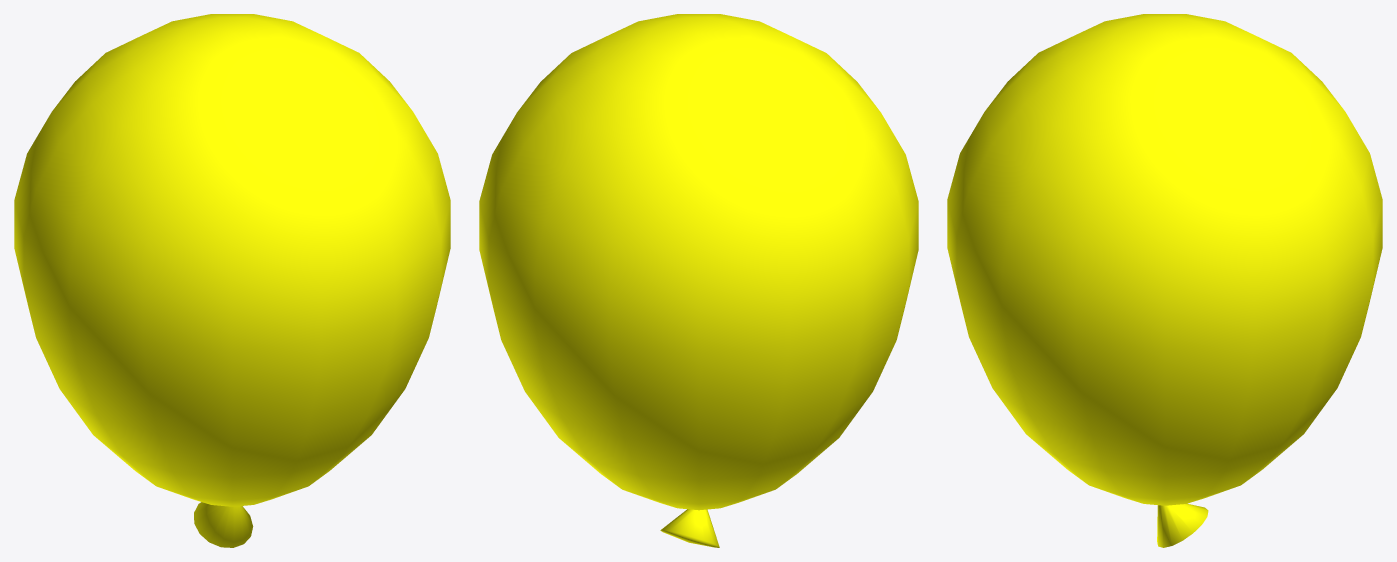
File: balloon_animation_test.dae
3 views of the same model, side by side, from view 1: azimuth 30°, elevation 25°; view 2: azimuth 150°, elevation 25°; view 3: azimuth 270°, elevation 25° (orthographic).
Visible parts, largest first — view 1: balloons_set_balloon_pSphere29; view 2: balloons_set_balloon_pSphere29; view 3: balloons_set_balloon_pSphere29.
Boxes of the visible parts, bbox=[...] form: balloons_set_balloon_pSphere29: bbox=[14, 14, 450, 547]; balloons_set_balloon_pSphere29: bbox=[479, 14, 918, 547]; balloons_set_balloon_pSphere29: bbox=[947, 14, 1382, 547].
Bounding box in the file's own units: 5.87 × 7.63 × 5.9.
